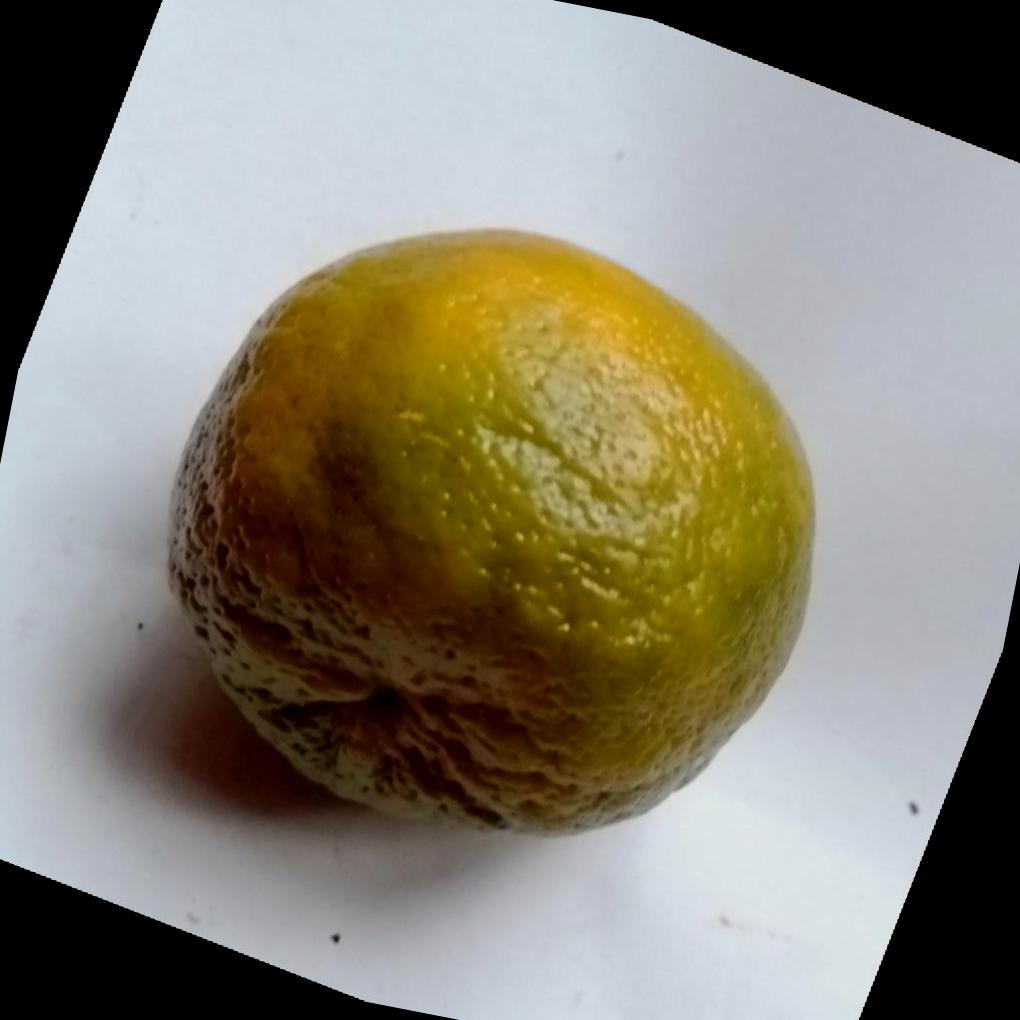FreshGuava: (167, 226, 820, 836)
